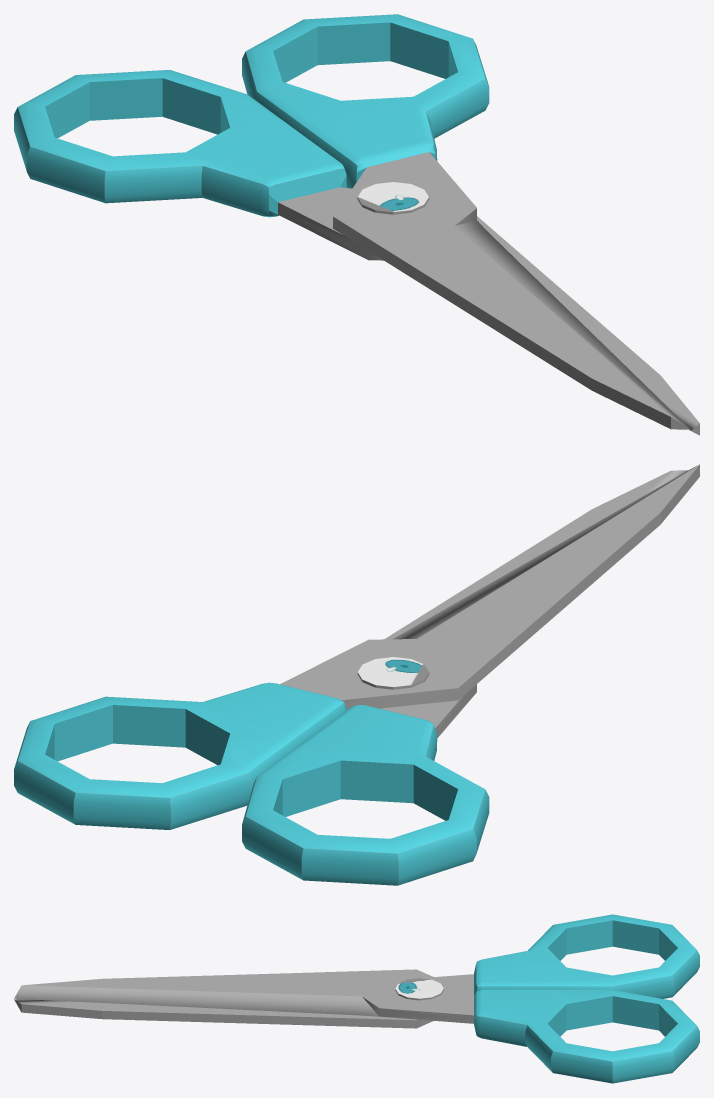
File: hasamichokin2.fbx
The picture shows the model from 3 angles, top to bottom: view 1: azimuth 30°, elevation 25°; view 2: azimuth 150°, elevation 25°; view 3: azimuth 270°, elevation 25°; orthographic projection. The views are drawn at different scales.
Visible parts, largest first — view 1: polySurface4, polySurface5, entyu2; view 2: polySurface4, polySurface5, entyu2; view 3: polySurface4, polySurface5, entyu2.
Part boxes in pixels (box(x1,y1,x2,y2)): polySurface4: box(242, 14, 690, 429); polySurface5: box(14, 70, 699, 435); entyu2: box(357, 182, 429, 214); polySurface4: box(14, 464, 699, 829); polySurface5: box(242, 470, 687, 885); entyu2: box(357, 657, 429, 689); polySurface4: box(14, 969, 699, 1083); polySurface5: box(14, 914, 699, 1028); entyu2: box(395, 978, 443, 1000).
Bounding box in the file's own units: 6.08 × 0.5 × 11.79.
1 material, 1 textured.
